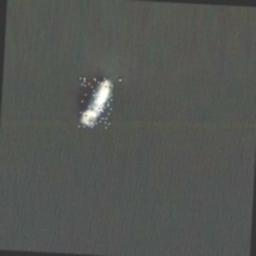boat: (77, 75, 113, 128)
